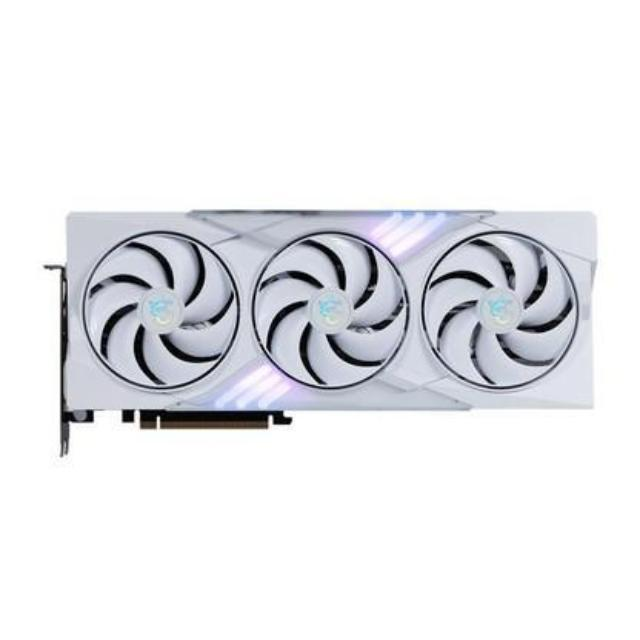GPU: (54, 202, 602, 444)
